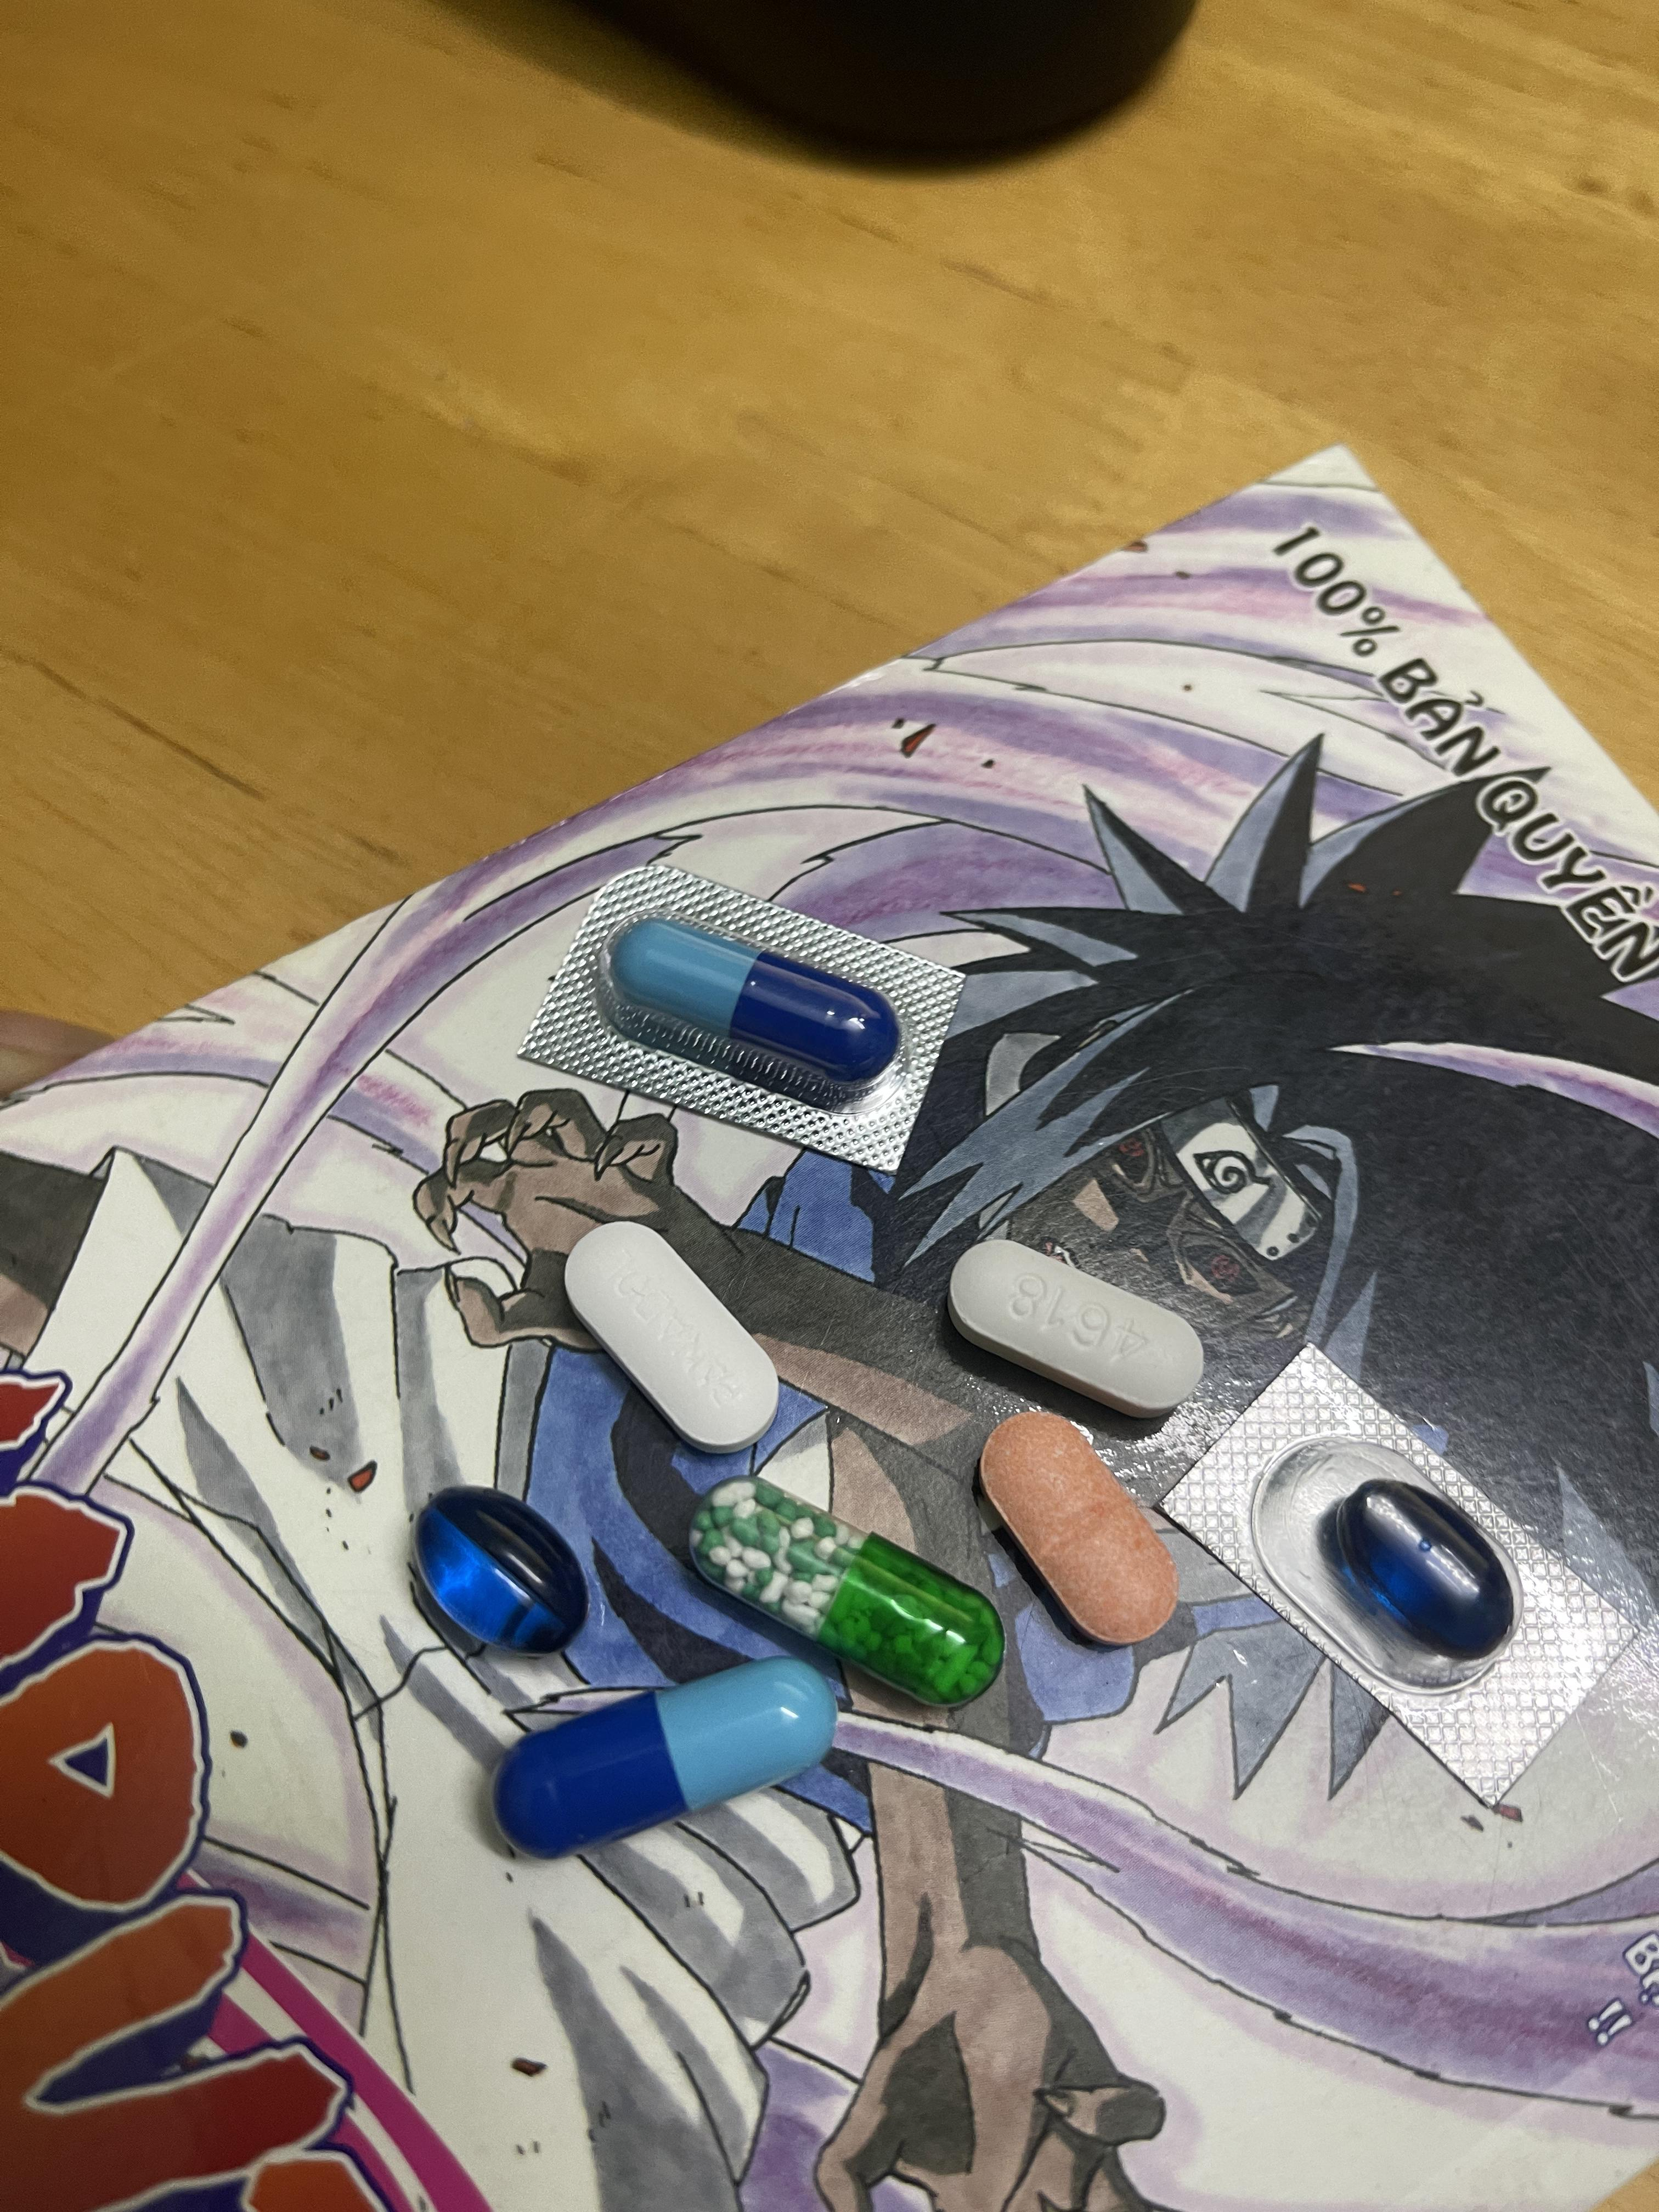Lincomyxin_500mg: (1335, 1480, 1520, 1665), (415, 1491, 570, 1658)
Loratadine_10mg: (979, 1414, 1178, 1644)
Paracetamol_350mg: (563, 1223, 784, 1460)
Paracetamol_500mg: (951, 1242, 1204, 1418)
Paracetamol_650mg: (699, 1486, 999, 1702)
pill: (497, 1651, 842, 1865), (612, 921, 889, 1083)
